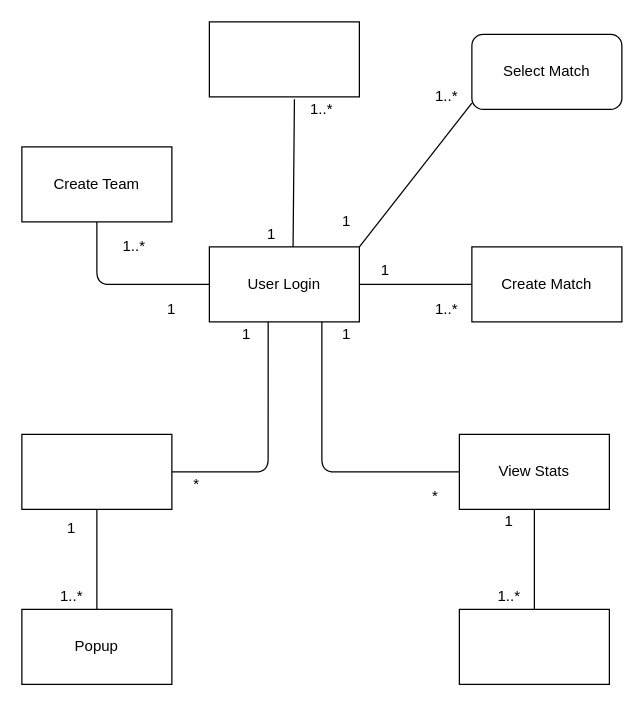
This 644x706 diagram has some shape labels left out. The centre of each missing label's shape, as x and y in pixels:
PitchEvent: point 96,471
PopupStatview: point 533,646
Select Team: point 283,59
